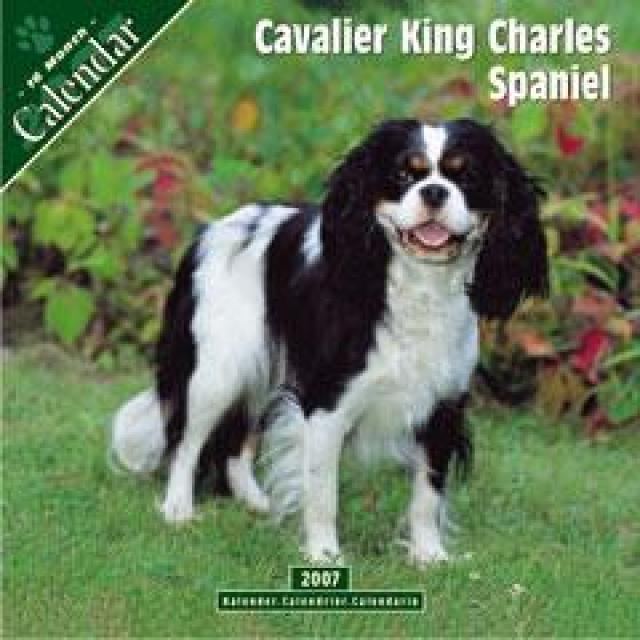happy: (299, 58, 564, 342)
